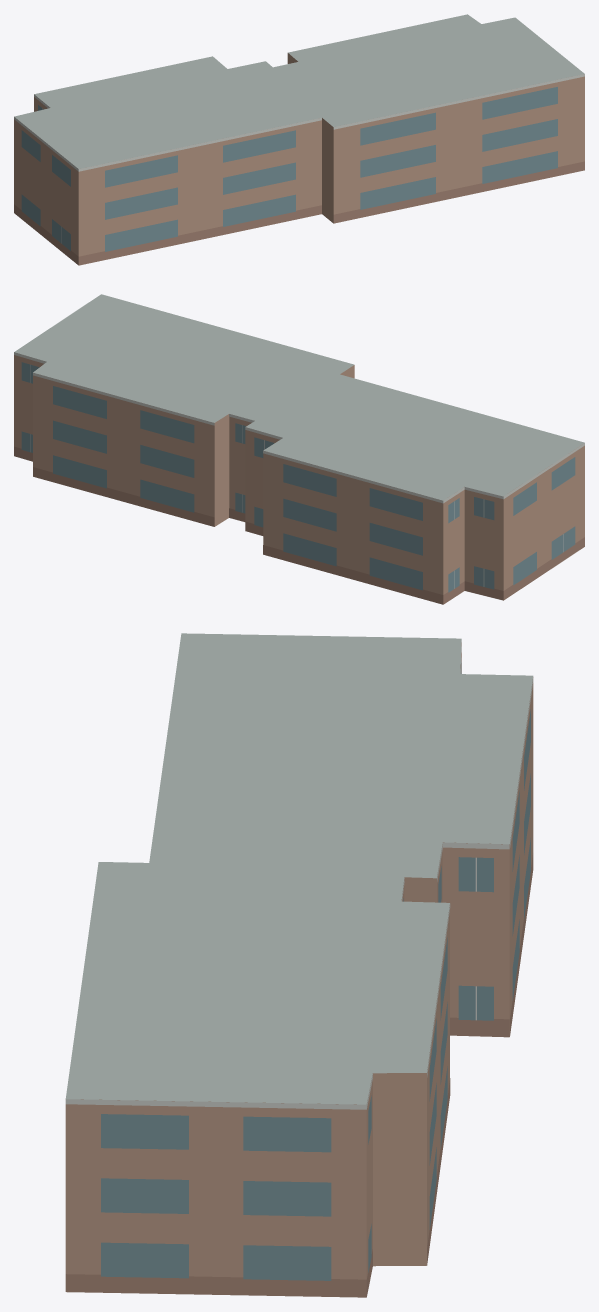
File: survey-upis-32886328.glb
3 renders of one model, top to bottom at view 1: azimuth 30°, elevation 25°; view 2: azimuth 150°, elevation 25°; view 3: azimuth 270°, elevation 25°, orthographic. The views are drawn at different scales.
Parts seen in each view (by area): view 1: survey-upis-32886328.tmp; view 2: survey-upis-32886328.tmp; view 3: survey-upis-32886328.tmp.
Part boxes in pixels (bbox=[...]): survey-upis-32886328.tmp: bbox=[14, 14, 584, 265]; survey-upis-32886328.tmp: bbox=[14, 294, 584, 604]; survey-upis-32886328.tmp: bbox=[65, 633, 533, 1297].
Bounding box in the file's own units: 47.95 × 9.15 × 20.11.
